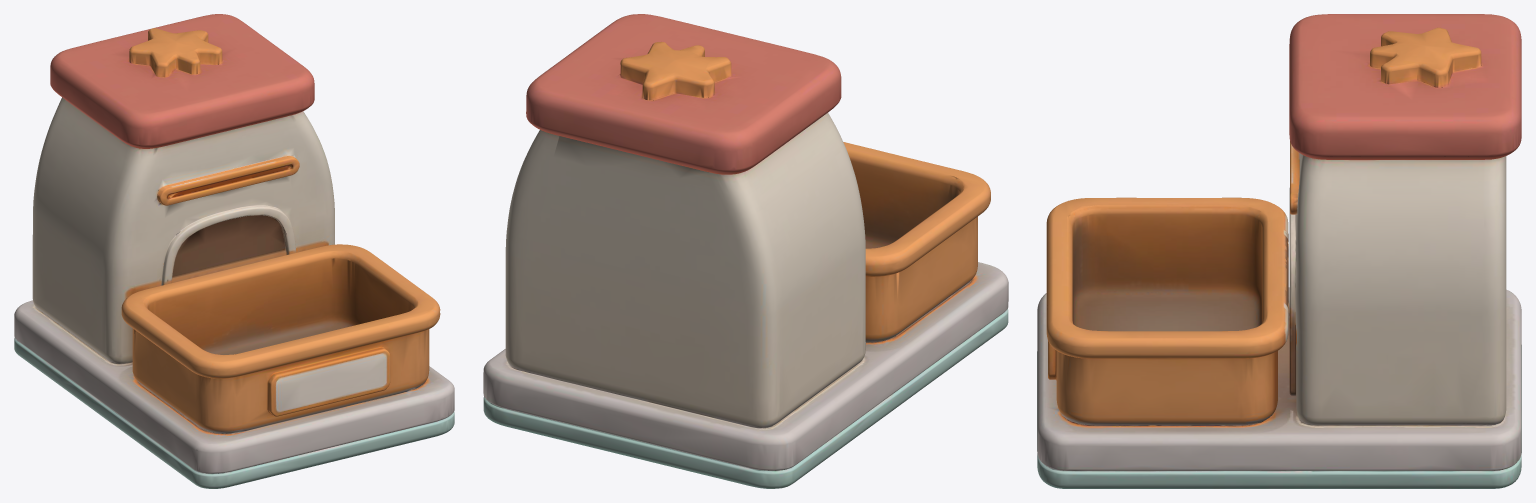
File: bin-star.glb
3 views of the same model, side by side, from view 1: azimuth 30°, elevation 25°; view 2: azimuth 150°, elevation 25°; view 3: azimuth 270°, elevation 25° (orthographic). The views are drawn at different scales.
Visible parts, largest first — view 1: bin-star; view 2: bin-star; view 3: bin-star.
Part boxes in pixels (x1,y1,x2,y2): bin-star: (14, 14, 454, 488); bin-star: (483, 14, 1008, 488); bin-star: (1037, 14, 1521, 488).
Bounding box in the file's own units: 0.8395 × 0.9446 × 1.12.
Materials: 1 (1 with a texture image).
